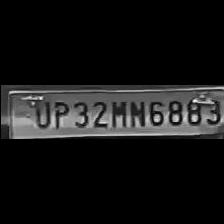2: (88, 97, 108, 128)
3: (70, 99, 89, 129), (204, 95, 220, 125)
6: (144, 97, 164, 127)
8: (184, 98, 204, 127), (164, 97, 182, 127)
M: (109, 98, 127, 130)
N: (126, 97, 144, 128)
P: (49, 99, 69, 129)
U: (29, 98, 49, 130)
